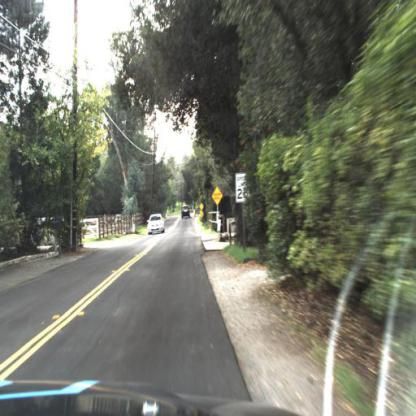car: (149, 214, 165, 237), (181, 206, 192, 223)
